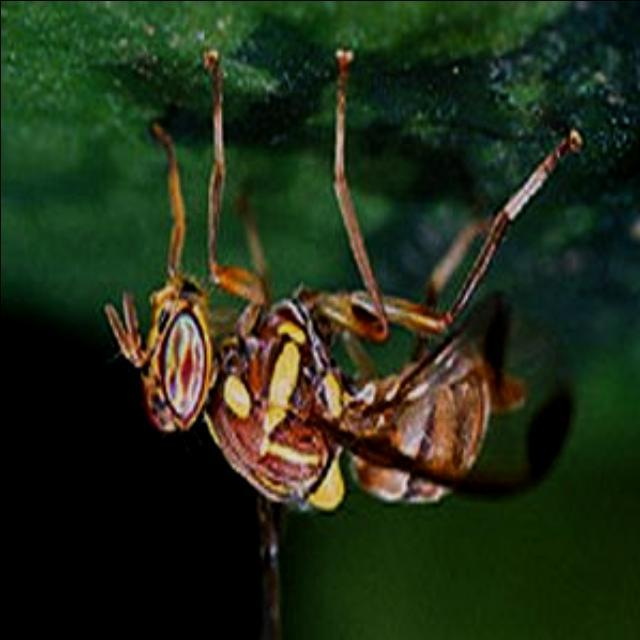melon fly: (74, 93, 554, 553)
